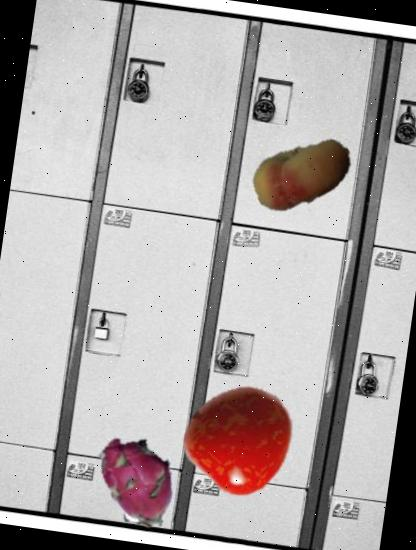Peach: (244, 115, 361, 232)
Pitahaya: (82, 425, 196, 539)
Tomato: (180, 375, 304, 500)
